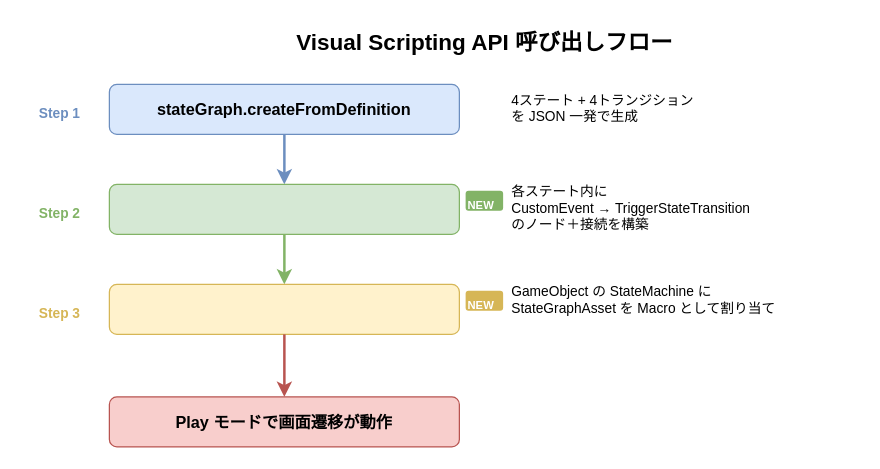
Image size: 880x469. Some labels were removed from this diagram. Each missing label, with the centre of its shape:
flowGraph.createFromDefinition: the point at 283,208
stateMachine.setGraph: the point at 283,308
